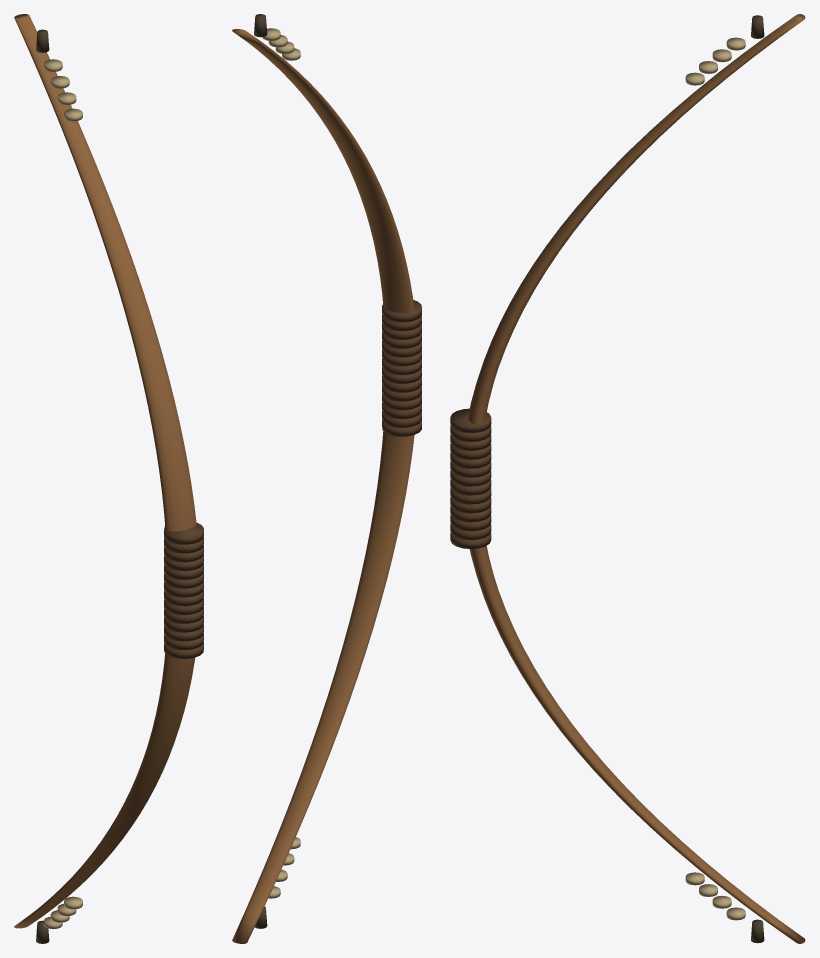
File: bear_longbow.glb
3 views of the same model, side by side, from view 1: azimuth 30°, elevation 25°; view 2: azimuth 150°, elevation 25°; view 3: azimuth 270°, elevation 25° (orthographic).
Visible parts, largest first — view 1: FlexibleLimbs, Leather grip wrap.013; view 2: FlexibleLimbs, Leather grip wrap.013; view 3: FlexibleLimbs.
Boxes of the visible parts, x1,y1,x2,y2 form: FlexibleLimbs: [14, 14, 196, 928]; Leather grip wrap.013: [164, 522, 203, 544]; FlexibleLimbs: [232, 29, 418, 943]; Leather grip wrap.013: [382, 300, 421, 322]; FlexibleLimbs: [466, 14, 805, 943].
Size of the model in its own units: 0.06 by 1.5 by 0.5231.
